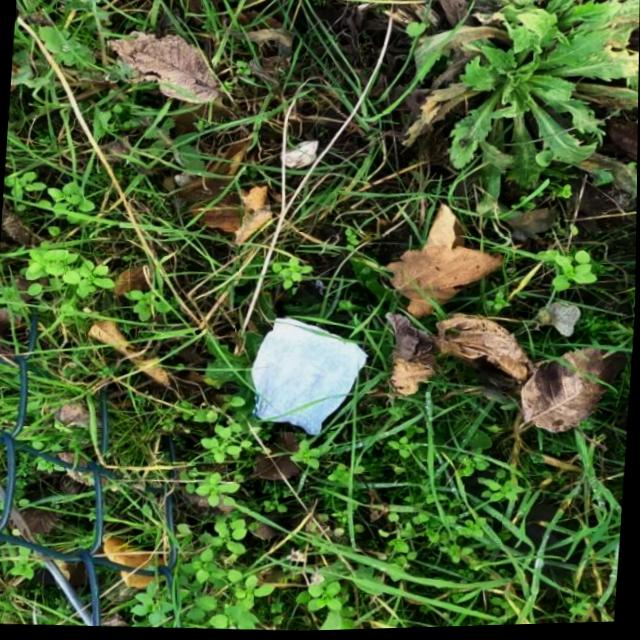Plastic: (247, 314, 373, 442)
